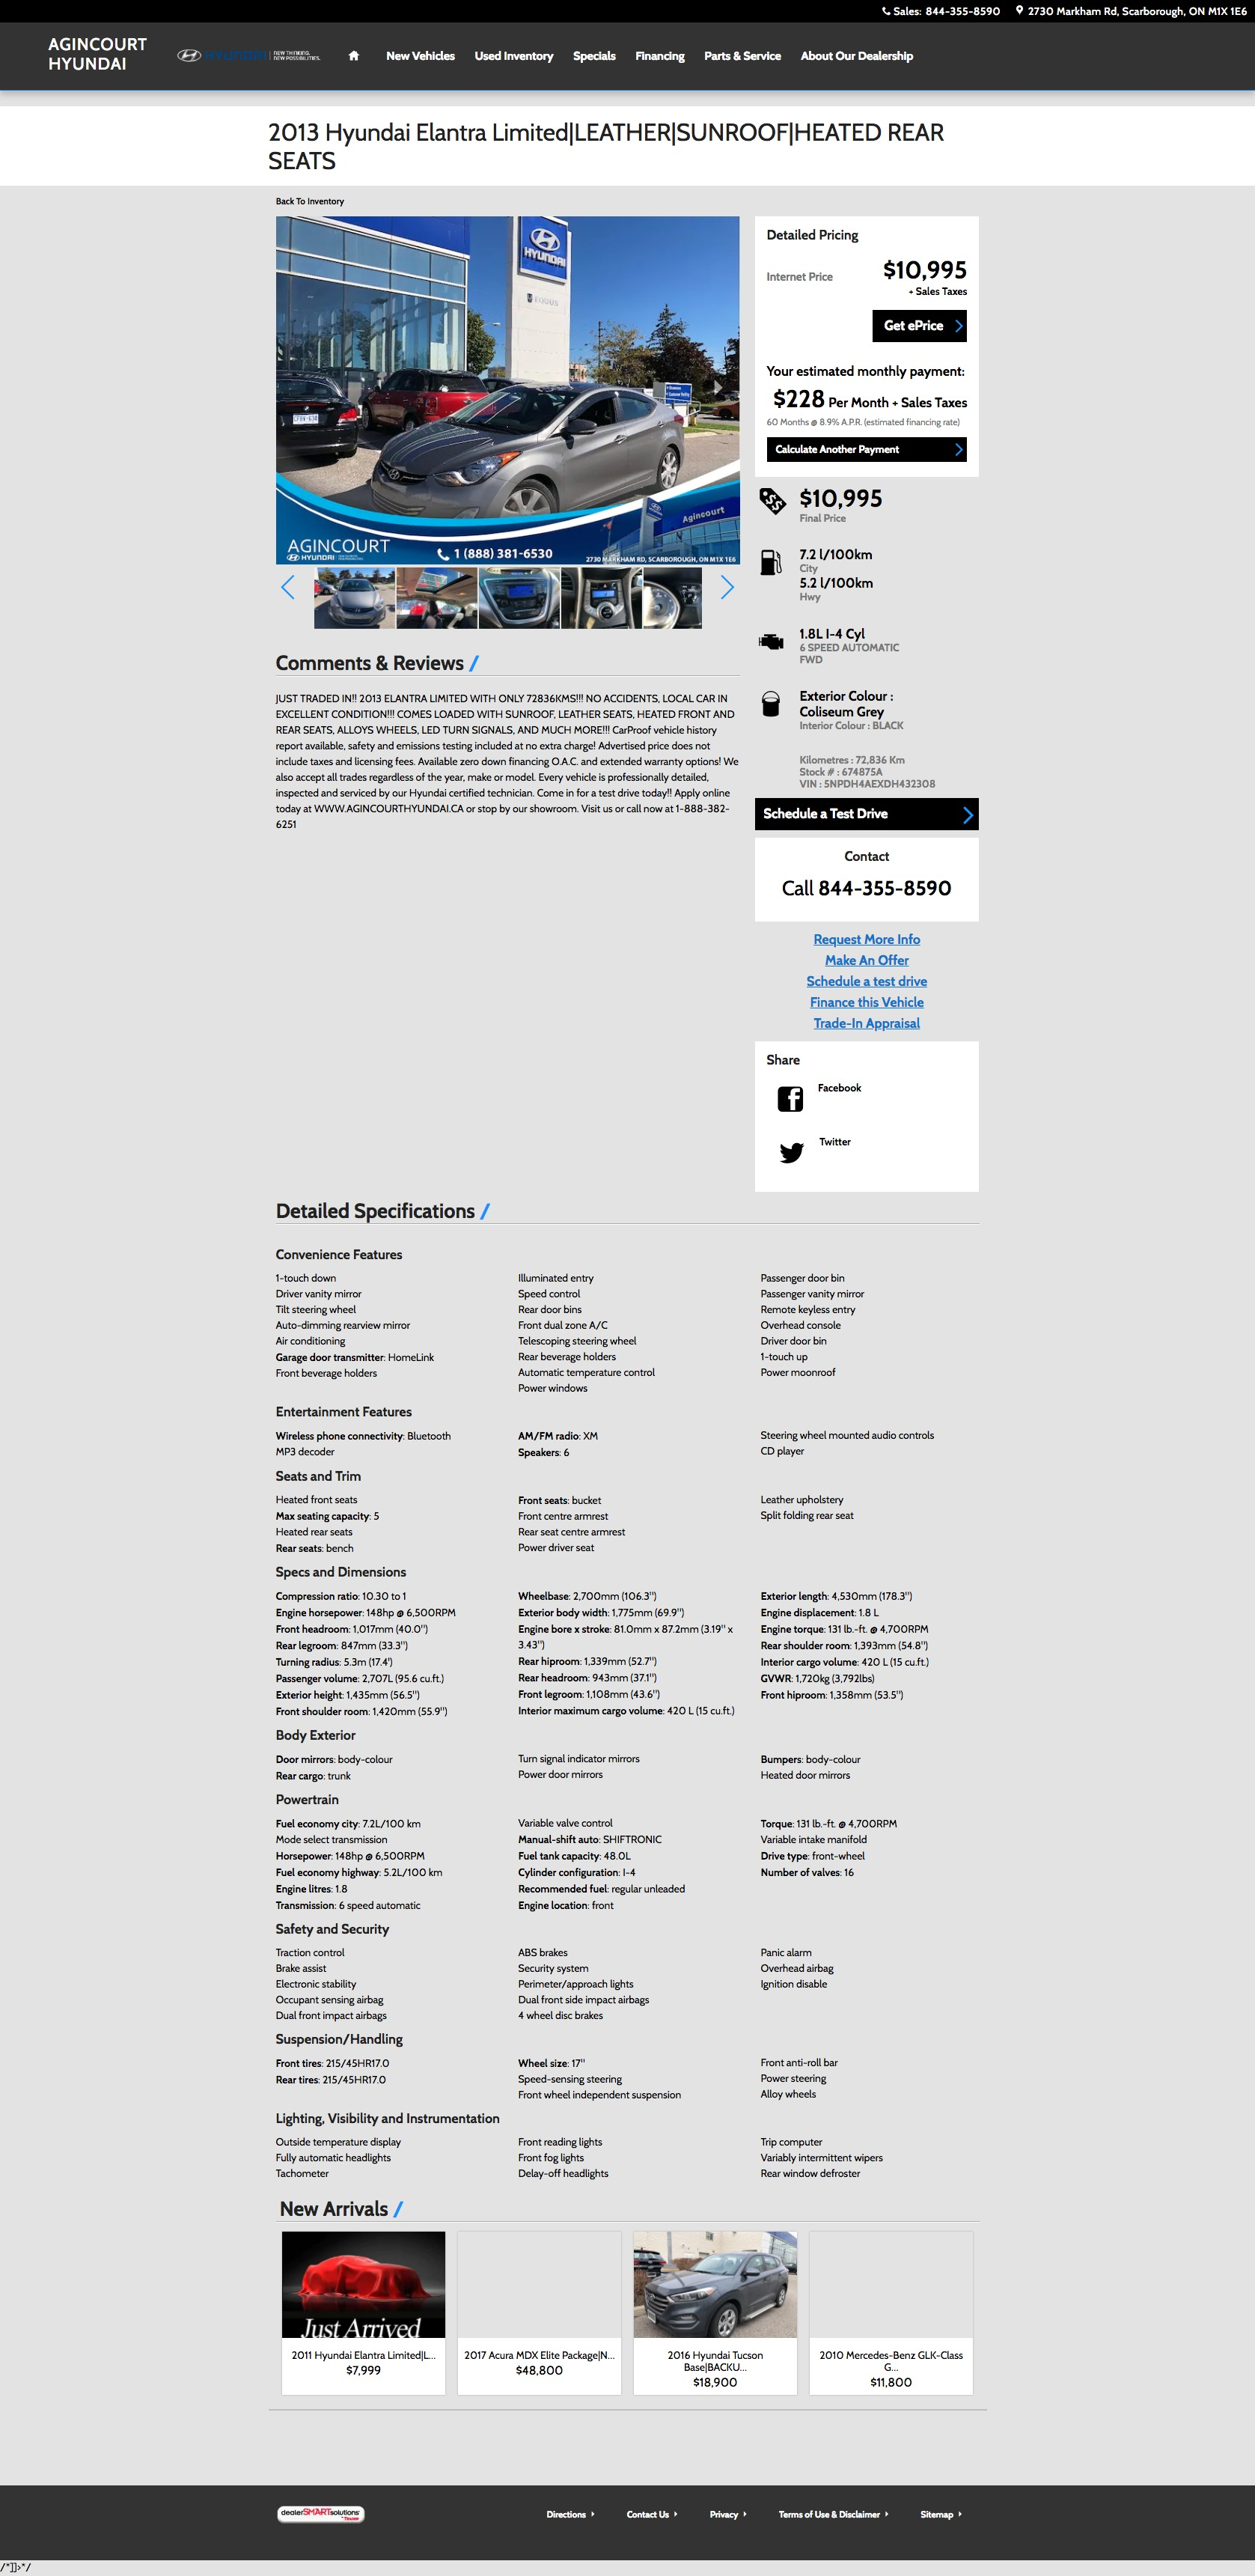car: (721, 577, 734, 600)
